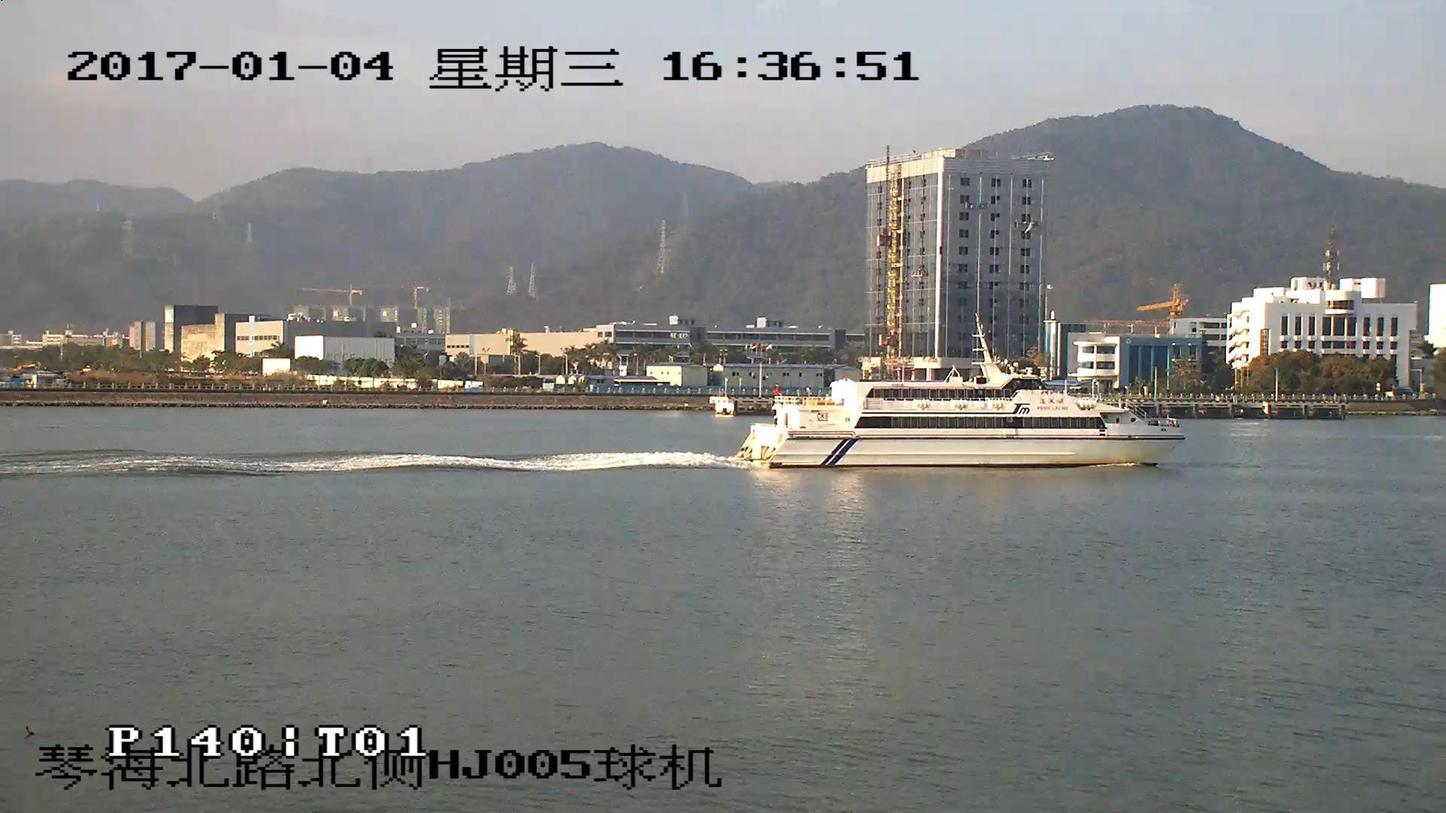passenger ship: (737, 324, 1182, 464)
